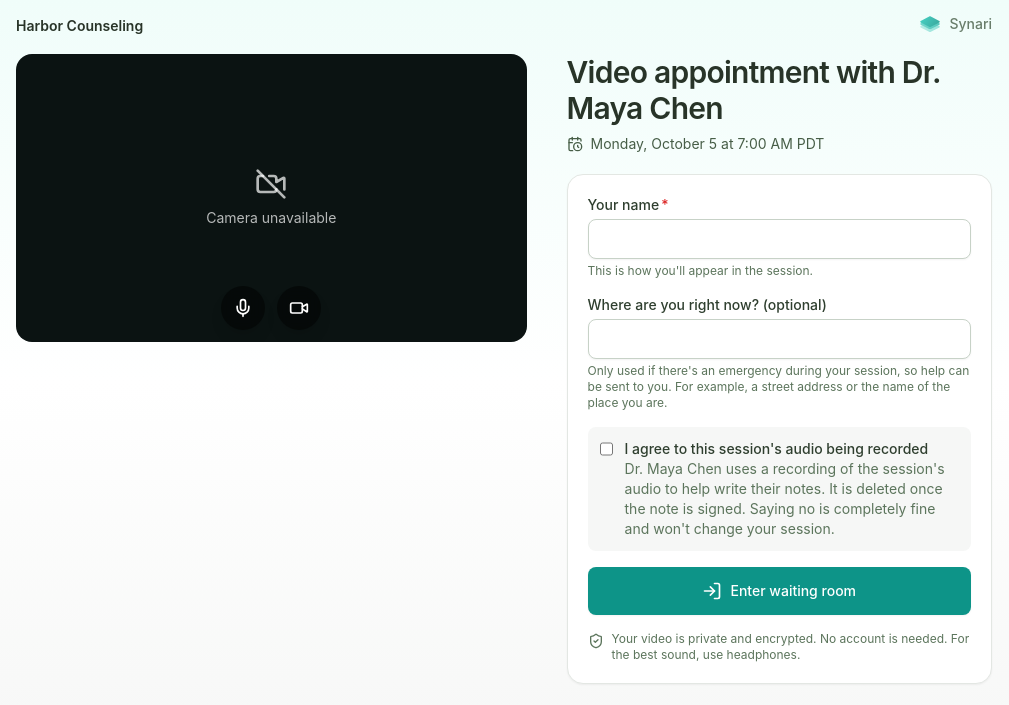
Test: guest join form › requires a name before checking in
Step 1. Click the button "Enter waiting room" → (779, 591), box [588, 567, 971, 615]
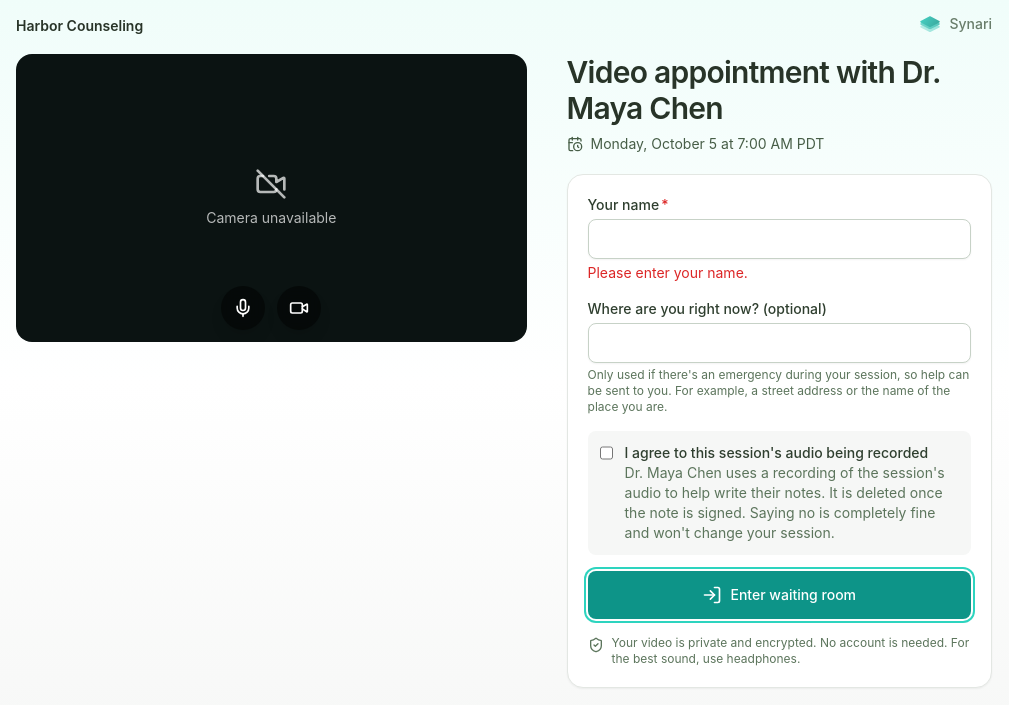
expect the text "Please enter your name." is shown: met, box [588, 264, 748, 281]
